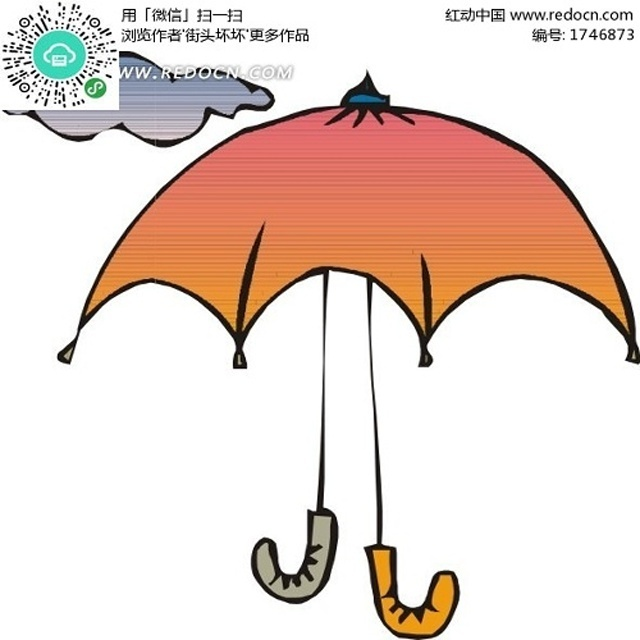umbrella: (50, 68, 640, 640)
